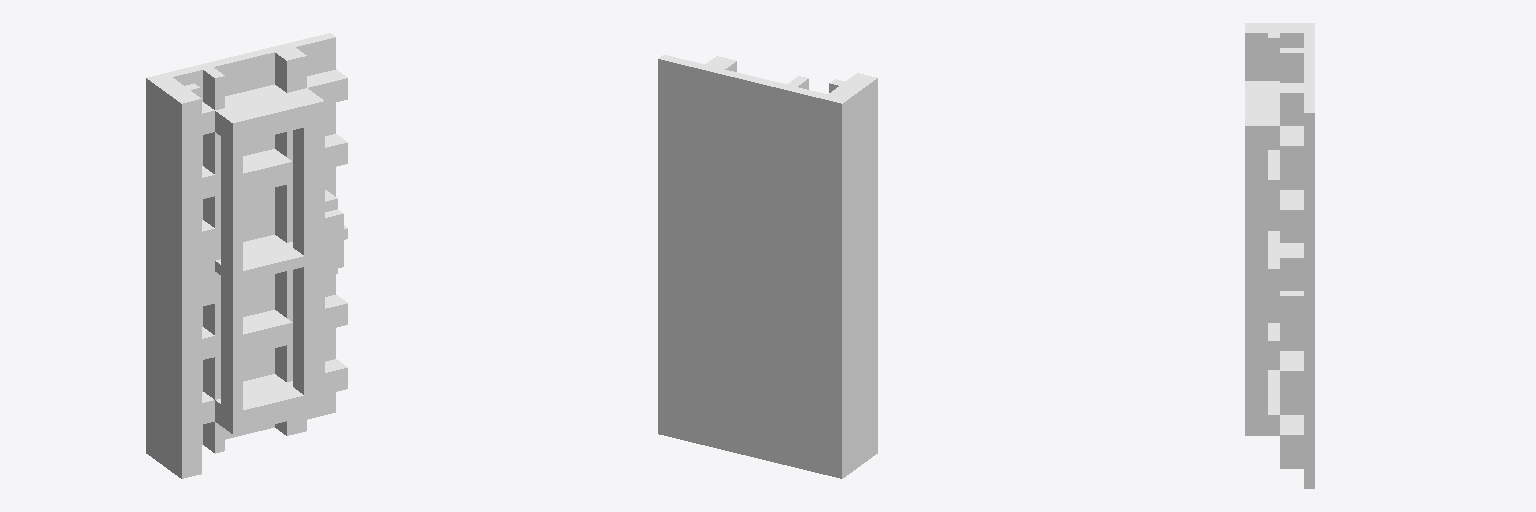
File: Gate-1.obj
The picture shows the model from 3 angles: view 1: azimuth 30°, elevation 25°; view 2: azimuth 150°, elevation 25°; view 3: azimuth 270°, elevation 25°; orthographic projection.
Visible parts, largest first — view 1: Gate-1; view 2: Gate-1; view 3: Gate-1.
Part boxes in pixels (bbox=[...]): Gate-1: bbox=[146, 33, 347, 478]; Gate-1: bbox=[658, 55, 877, 478]; Gate-1: bbox=[1245, 23, 1314, 488].
Size of the model in its own units: 18 by 35 by 6.